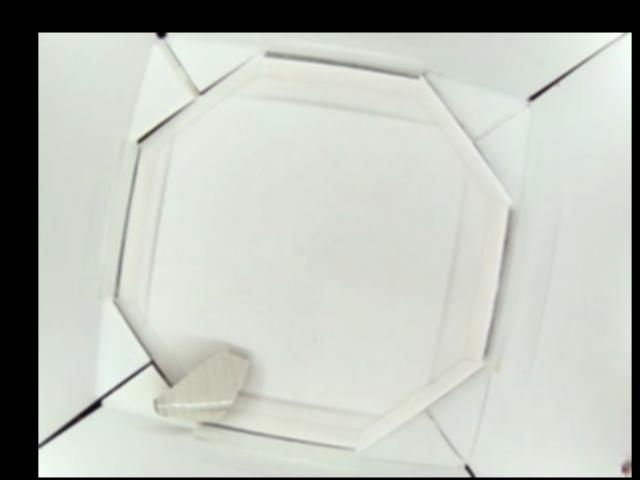China: (149, 343, 251, 429)
